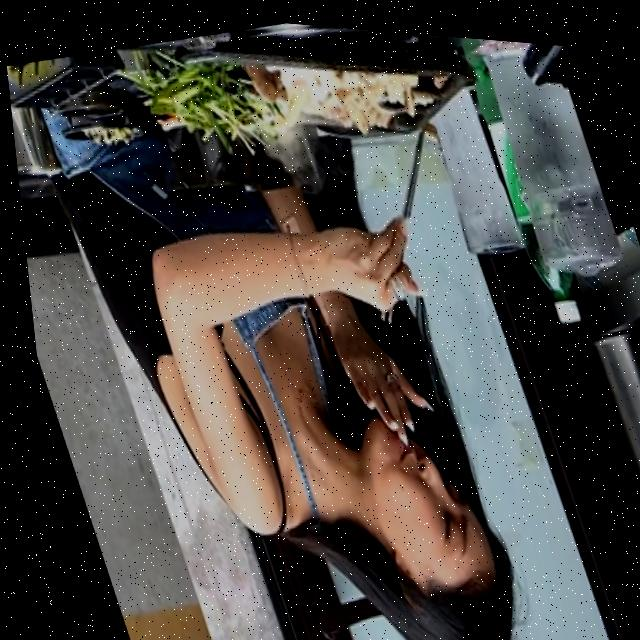eating-person: (1, 0, 595, 640)
